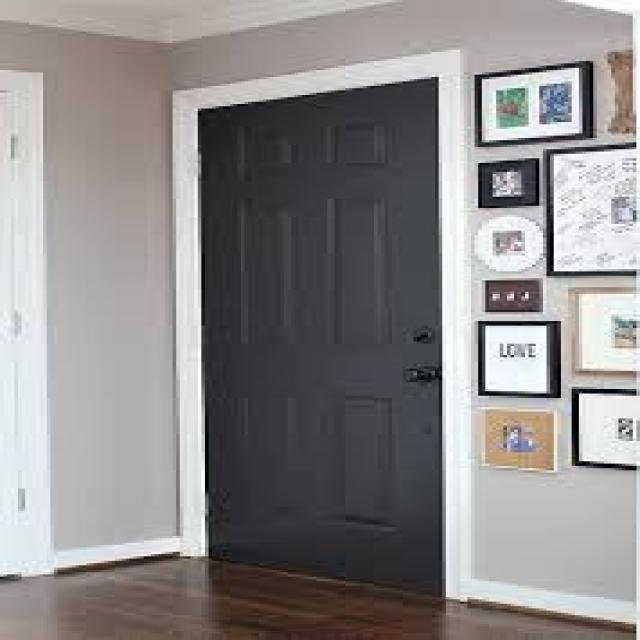Door: (176, 93, 446, 579)
